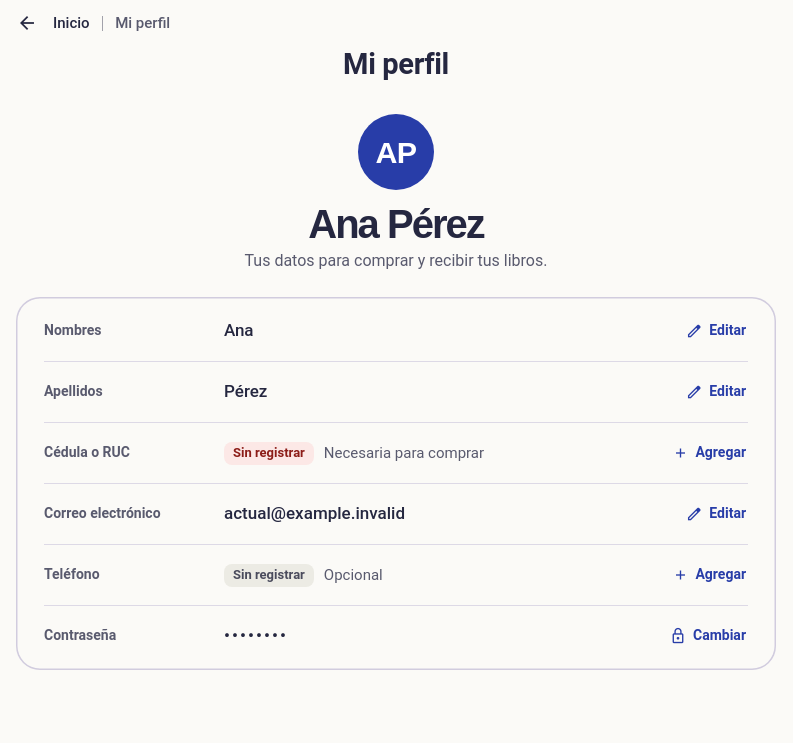
does not replay an uncertain network response or claim the email was sent
The width and height of the screenshot is (793, 743).
Click the button named "Cambiar contraseña": (708, 636) 659,614 -> 758,658
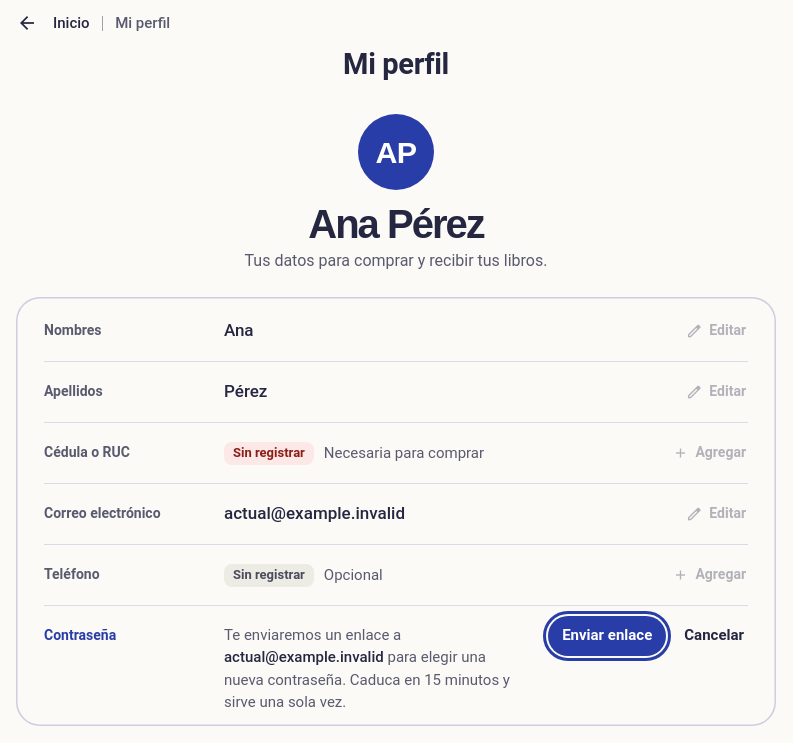
Click the button "Enviar enlace": (607, 636) 548,616 -> 666,656
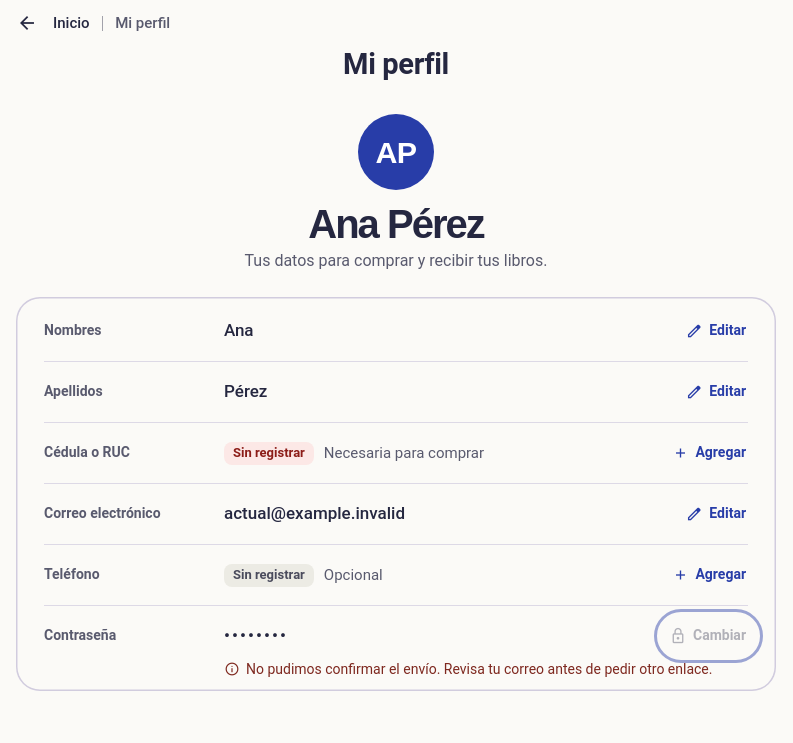
Result: the message reads "No pudimos confirmar el envío. Revisa tu correo antes de pedir otro enlace." at 246,661 -> 712,677
